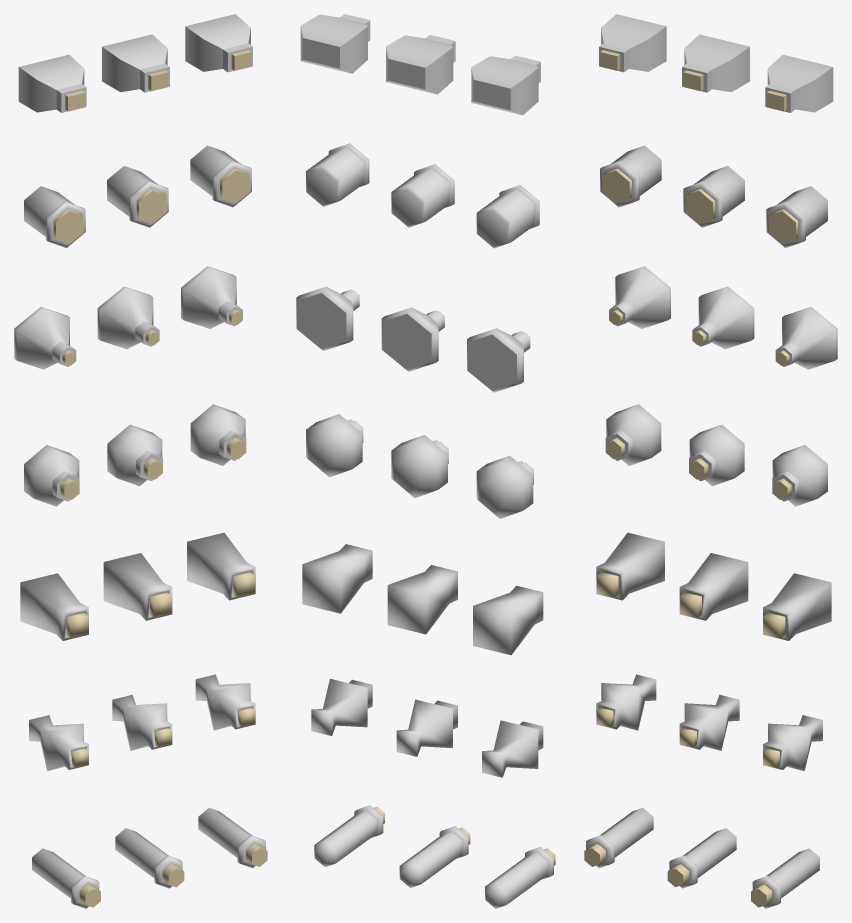
Rendered from potions_0.obj.
3 views of the same model, side by side, from view 1: azimuth 30°, elevation 25°; view 2: azimuth 150°, elevation 25°; view 3: azimuth 330°, elevation 25° (orthographic). The views are drawn at different scales.
Visible parts, largest first — view 1: obj19, obj21, obj11, obj6, obj4, obj5, obj14, obj15, obj13, obj10, obj17, obj16 (+9 smaller); view 2: obj19, obj11, obj21, obj4, obj5, obj6, obj13, obj14, obj15, obj17, obj10, obj16 (+9 smaller); view 3: obj19, obj11, obj21, obj4, obj6, obj5, obj14, obj13, obj15, obj17, obj10, obj16 (+9 smaller).
Boxes of the visible parts, x1,y1,x2,y2 form: obj19: (103,553,172,620); obj21: (20,573,88,640); obj11: (187,532,255,600); obj6: (18,54,86,112); obj4: (185,14,252,72); obj5: (102,34,169,92); obj14: (97,286,159,349); obj15: (14,307,76,369); obj13: (181,266,242,328); obj10: (190,404,246,465); obj17: (24,445,79,506); obj16: (107,424,162,486); obj19: (387,565,457,634); obj11: (302,544,372,613); obj21: (473,585,543,655); obj4: (300,14,370,73); obj5: (386,35,455,94); obj6: (471,55,540,115); obj13: (296,286,359,350); obj14: (381,307,444,371); obj15: (467,328,530,392); obj17: (476,455,533,518); obj10: (306,414,363,477); obj16: (391,435,448,497); obj19: (679,553,748,620); obj11: (763,573,831,640); obj21: (596,532,664,600); obj4: (765,54,833,112); obj6: (599,14,666,72); obj5: (682,34,749,92); obj14: (692,286,754,349); obj13: (775,307,837,369); obj15: (609,266,670,328); obj17: (605,404,661,465); obj10: (772,445,827,506); obj16: (689,424,744,486).
Bounding box in the file's own units: 0.5273 × 1.88 × 0.2255.
